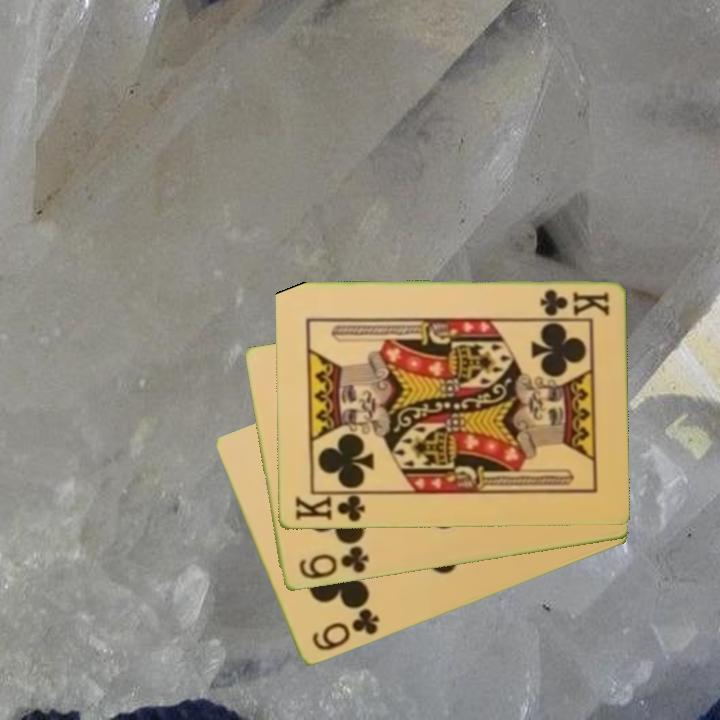6c: (308, 605, 382, 655), (294, 543, 372, 583)
Kc: (291, 491, 371, 525), (535, 287, 612, 317)
